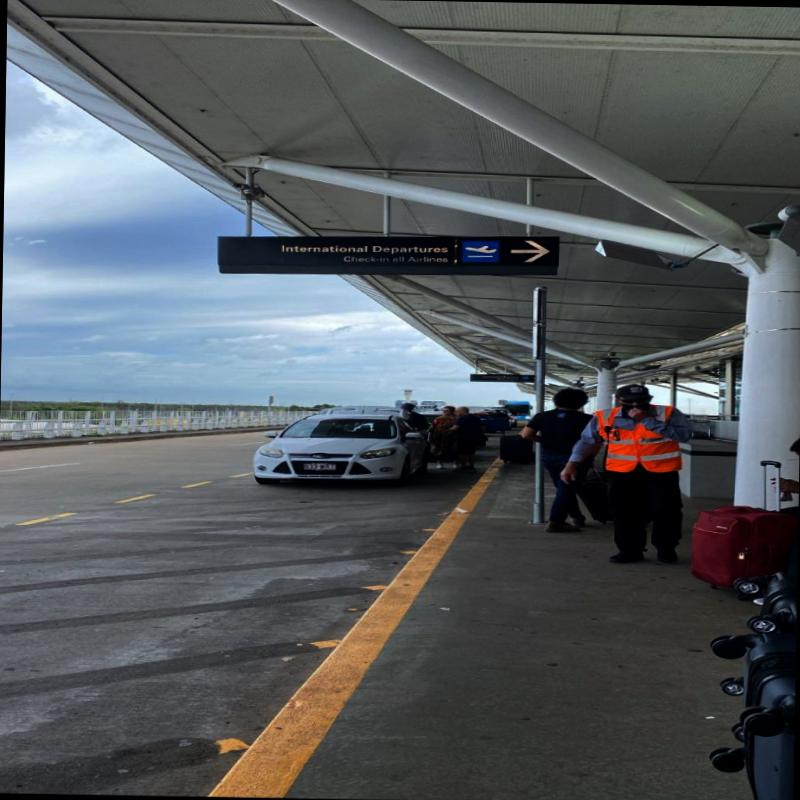license plate on a car: (303, 463, 336, 471)
